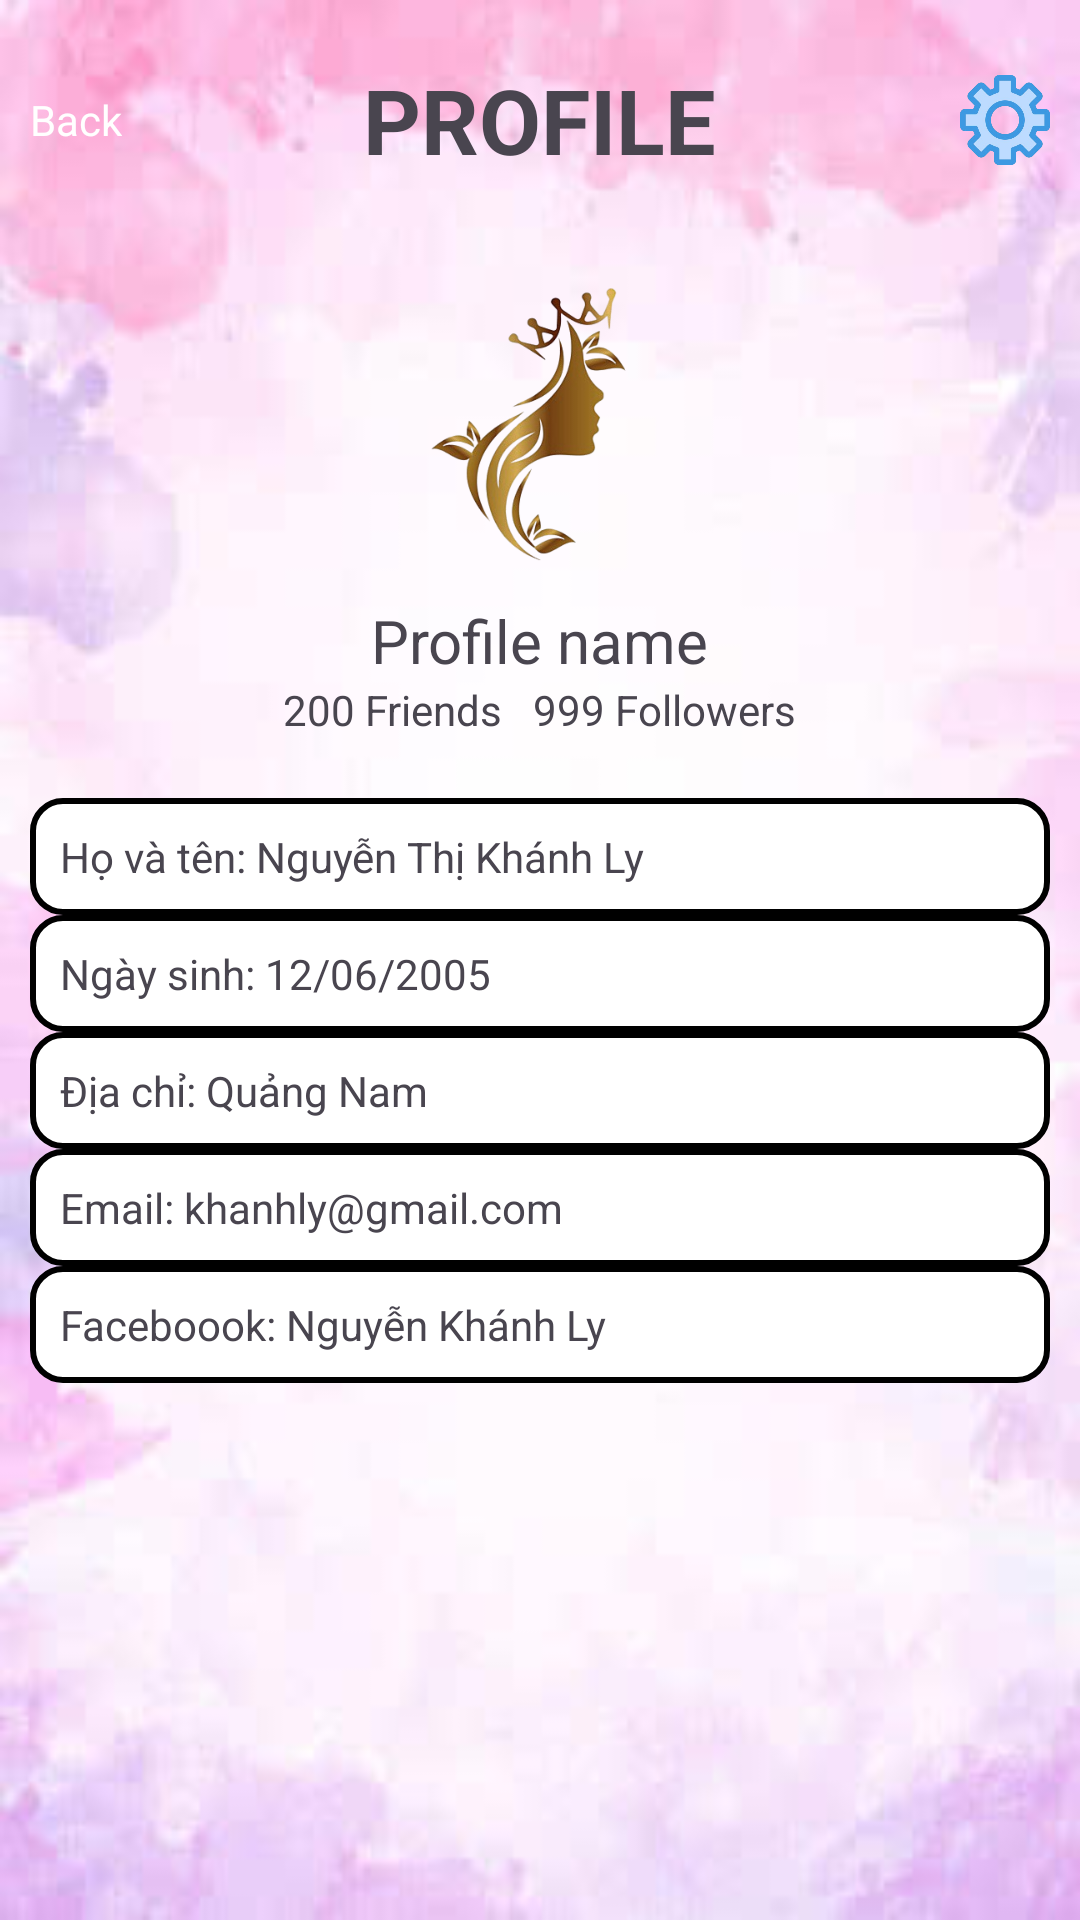

Icons on this 1080x1920 Android screen, each with the point to tap as (x=x, y=y):
setting: (x=1005, y=120)
